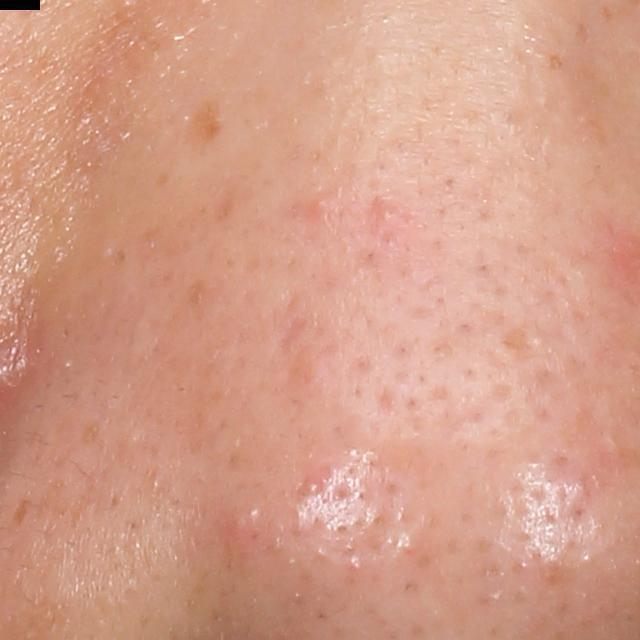atrophic_scar: (499, 323, 539, 362), (374, 385, 399, 419)
melasma: (183, 100, 226, 163), (546, 53, 564, 73), (596, 2, 612, 23)
papule: (376, 204, 396, 225)
